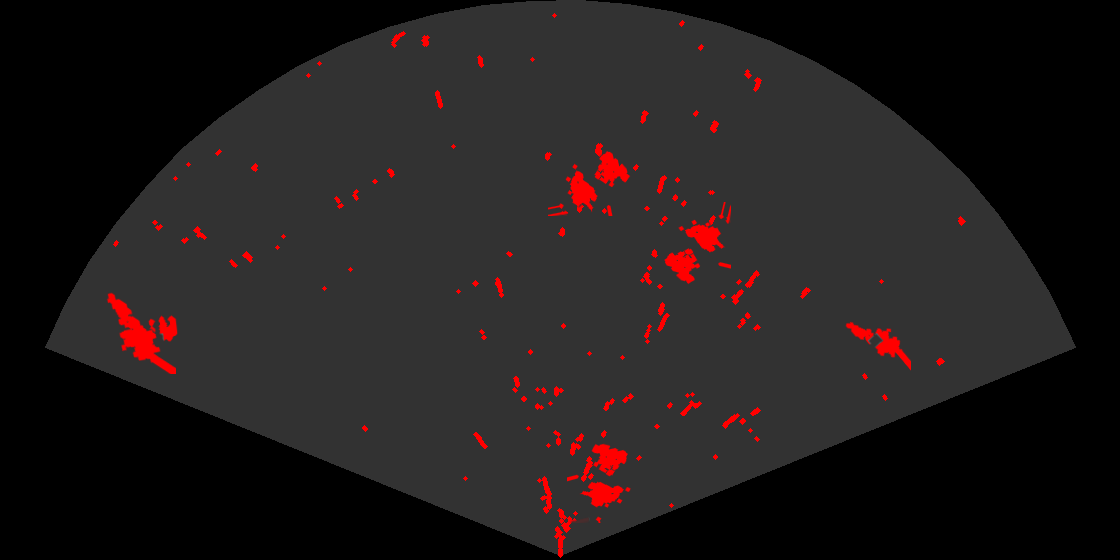ball: (147, 314, 179, 343)
cage: (663, 202, 731, 286), (548, 150, 632, 216), (567, 442, 632, 523)
frogman: (105, 291, 176, 374), (844, 320, 911, 372)
